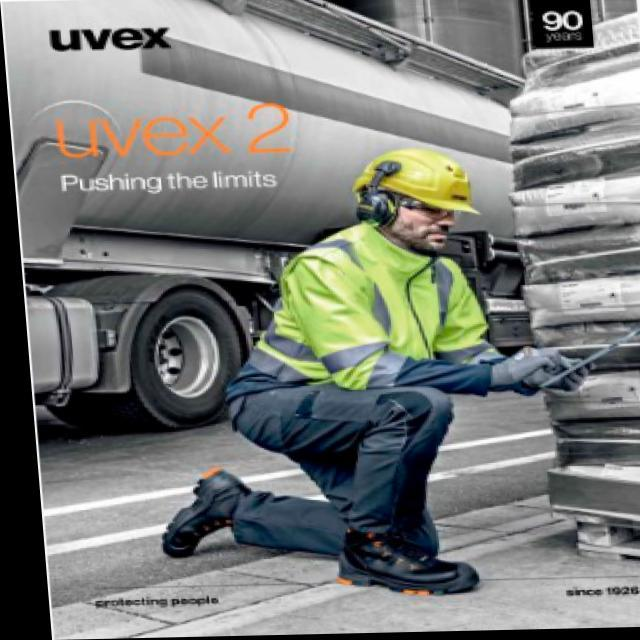boots: (145, 459, 488, 607)
helmet: (344, 144, 492, 261)
vest: (211, 214, 514, 412)
